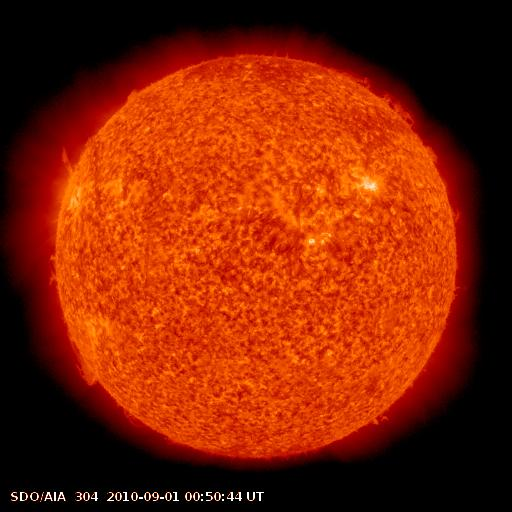prominence: (59, 321, 105, 397), (377, 77, 420, 130), (51, 138, 82, 184), (40, 249, 67, 290), (419, 141, 445, 168)
